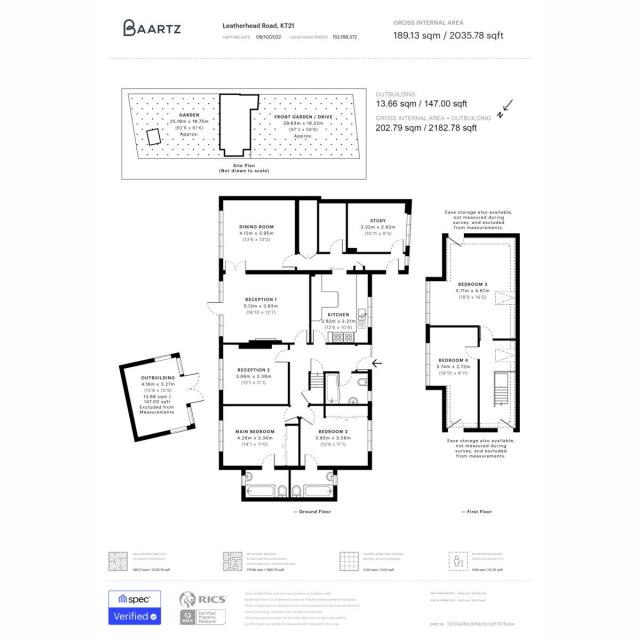DOOR: (299, 405, 315, 426), (283, 405, 299, 423), (446, 417, 465, 432), (497, 417, 515, 432), (447, 233, 465, 248), (356, 356, 372, 371), (304, 453, 318, 470), (261, 453, 275, 470), (464, 346, 480, 360), (274, 349, 290, 363), (338, 371, 352, 387), (480, 325, 493, 341), (313, 329, 326, 345)
ROOM: (425, 233, 520, 341), (206, 260, 311, 349), (425, 325, 480, 433), (218, 404, 301, 470), (298, 403, 373, 470), (218, 340, 291, 407), (308, 270, 373, 345)
SLIDING DOOR: (329, 267, 347, 275)
WINDOW: (425, 342, 431, 387), (425, 280, 431, 325), (218, 420, 224, 453), (218, 358, 224, 391), (367, 420, 373, 452), (367, 296, 373, 328), (332, 475, 338, 486), (241, 475, 246, 486)
